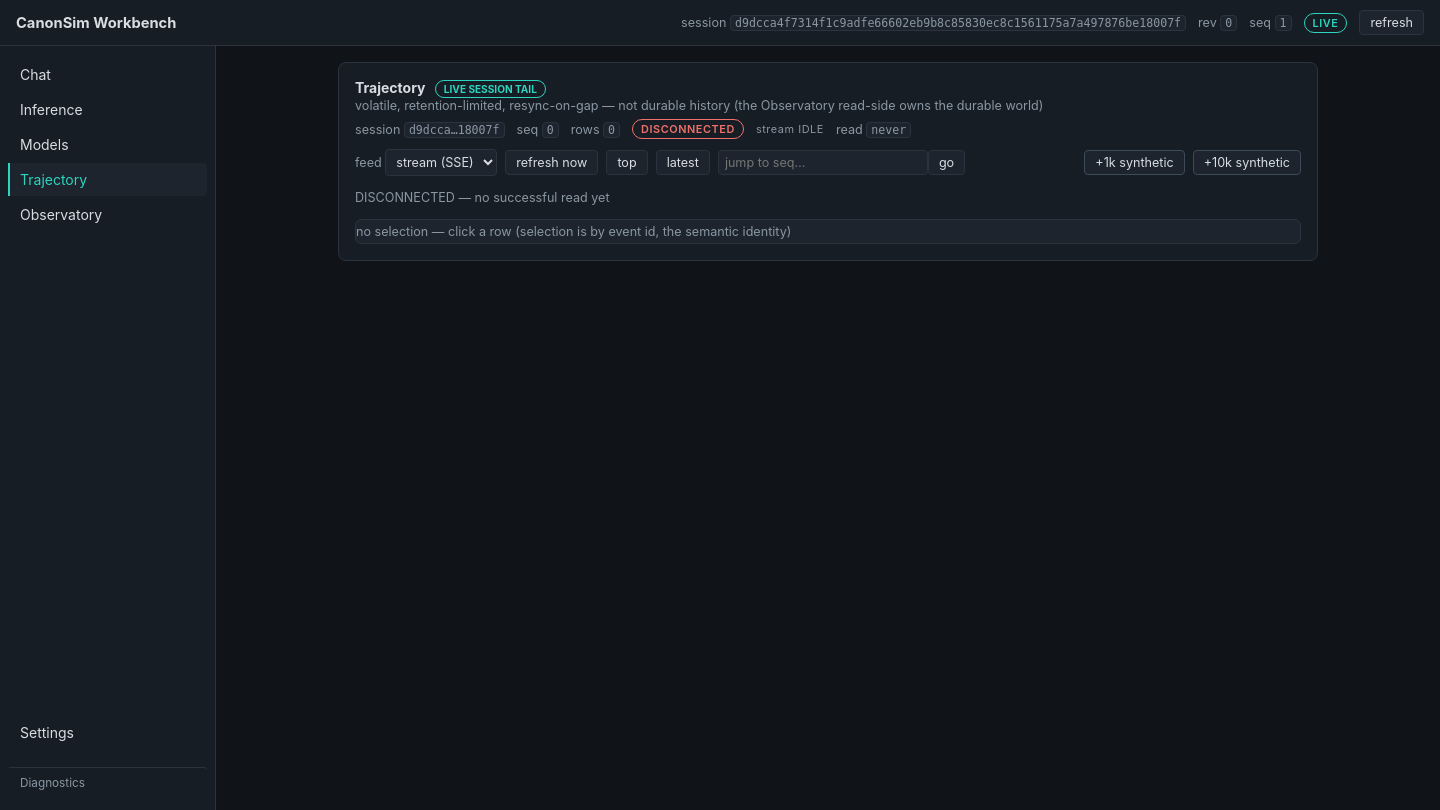
Test case: the composition root's registry split (the IA acceptance floor) › a product route still mounts its surface (Settings over the CONFIG store)
The width and height of the screenshot is (1440, 810).
Expected: the text with test id "session-id" reads "d9dcca4f7314f1c9adfe66602eb9b8c85830ec8c1561175a7a497876be18007f", [735,16,1181,30]
Click the button "Settings" at [108, 732], box [8,716,207,749]
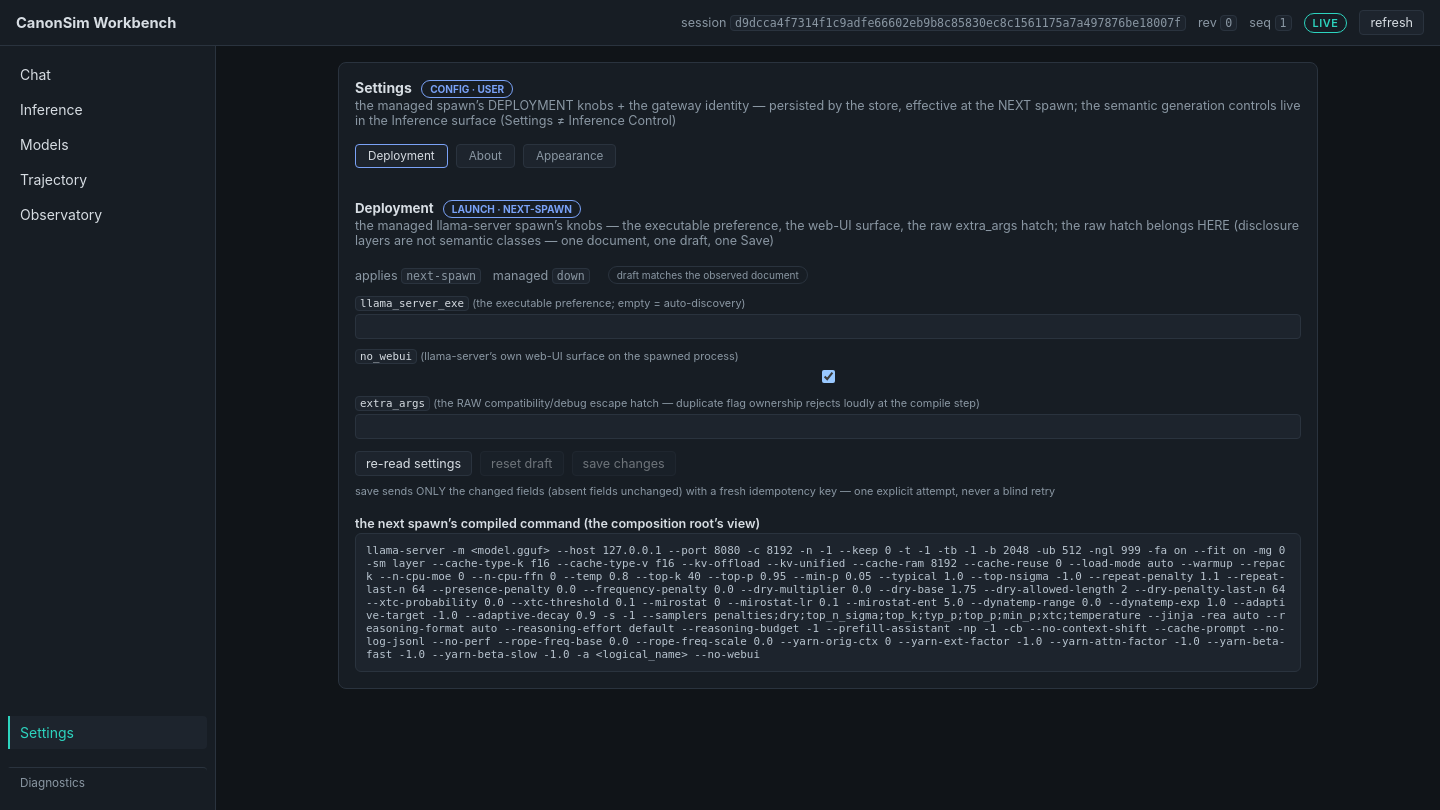
Expected: the number of elements with test id "active-workspace" is 1, [338,62,1318,689]
Now the text "CONFIG · USER" is shown, box [421,80,513,98]
